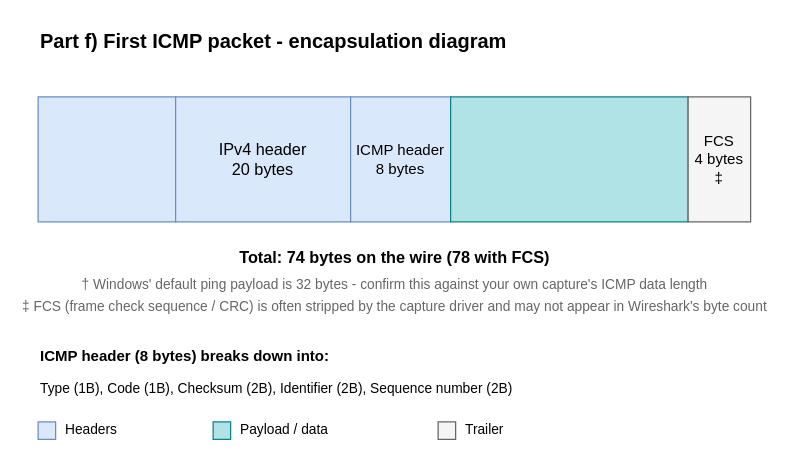
This 809x463 diagram has some shape labels left out. Each missing label, with the centre of its shape:
"Ethernet header 14 bytes" goes at point (106, 159).
"ICMP data 32 bytes †" goes at point (568, 159).
